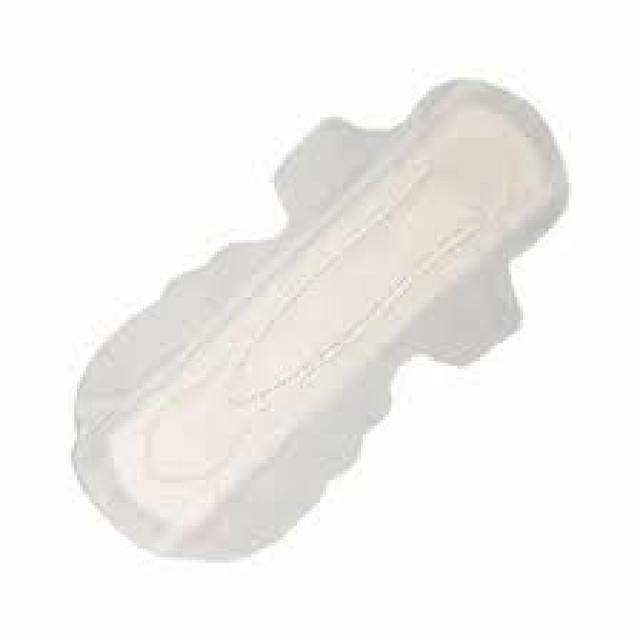napkin: (72, 80, 569, 557)
